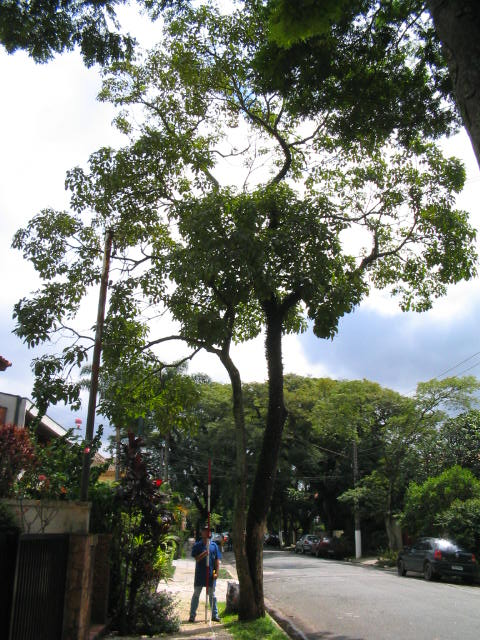crown: (17, 4, 471, 426)
stem: (225, 370, 288, 620)
stick: (199, 459, 216, 621)
tree: (13, 2, 475, 621)
